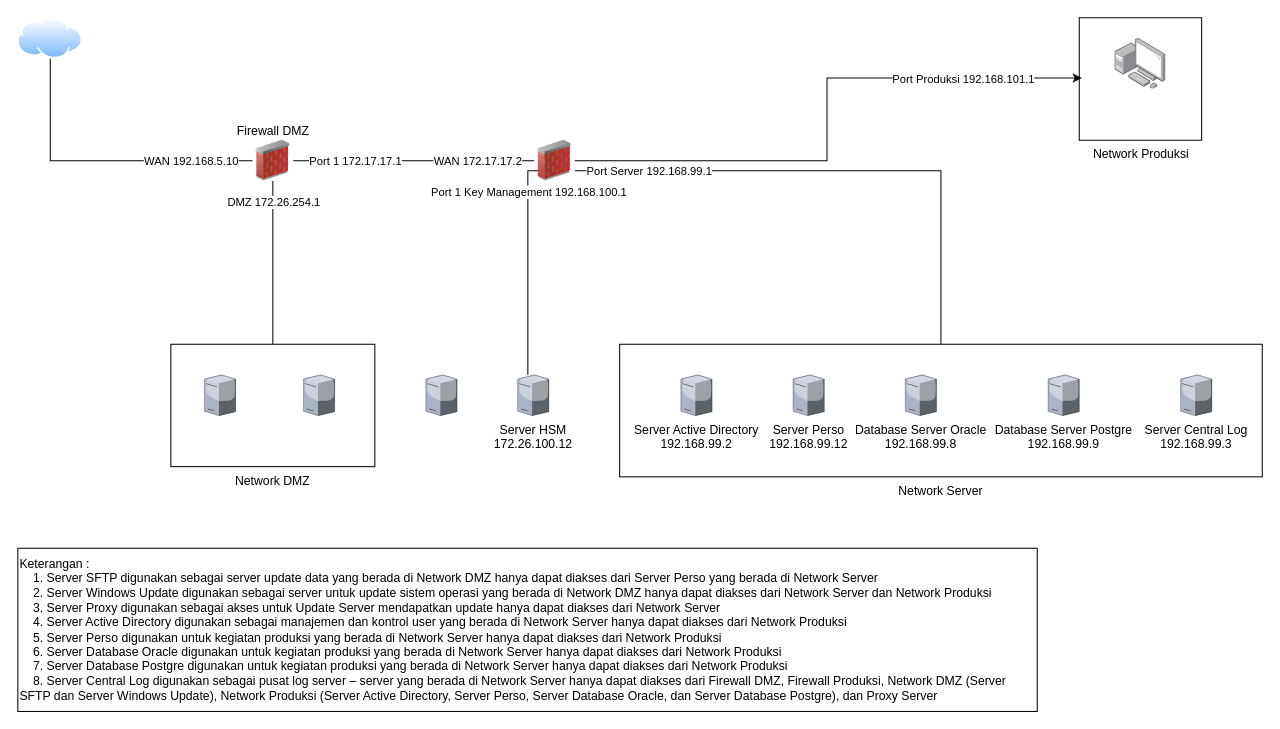
This 1280x729 diagram has some shape labels left out. The shapes that lost their labels are listed below. From the top down, each one's centre as x and y in pixels, then its label:
At [1139,63]: "Mesin Produksi 192.168.101.10".
At [554,160]: "Firewall Produksi".
At [219,394]: "Server SFTP 172.26.254.10".
At [318,394]: "Server Update 172.26.254.11".
At [441,394]: "Server Proxy 172.26.254.2".
